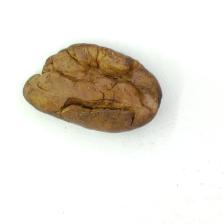NG: (51, 53, 145, 124)
